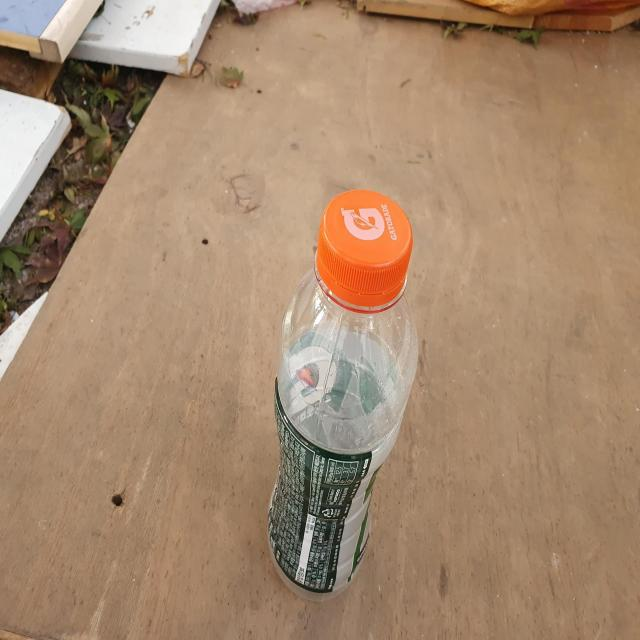plastic: (268, 189, 419, 600)
